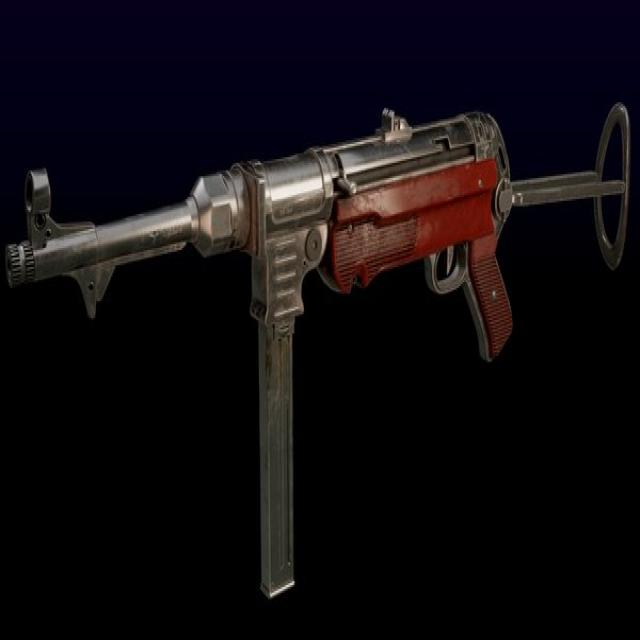SMG: (4, 104, 640, 606)
